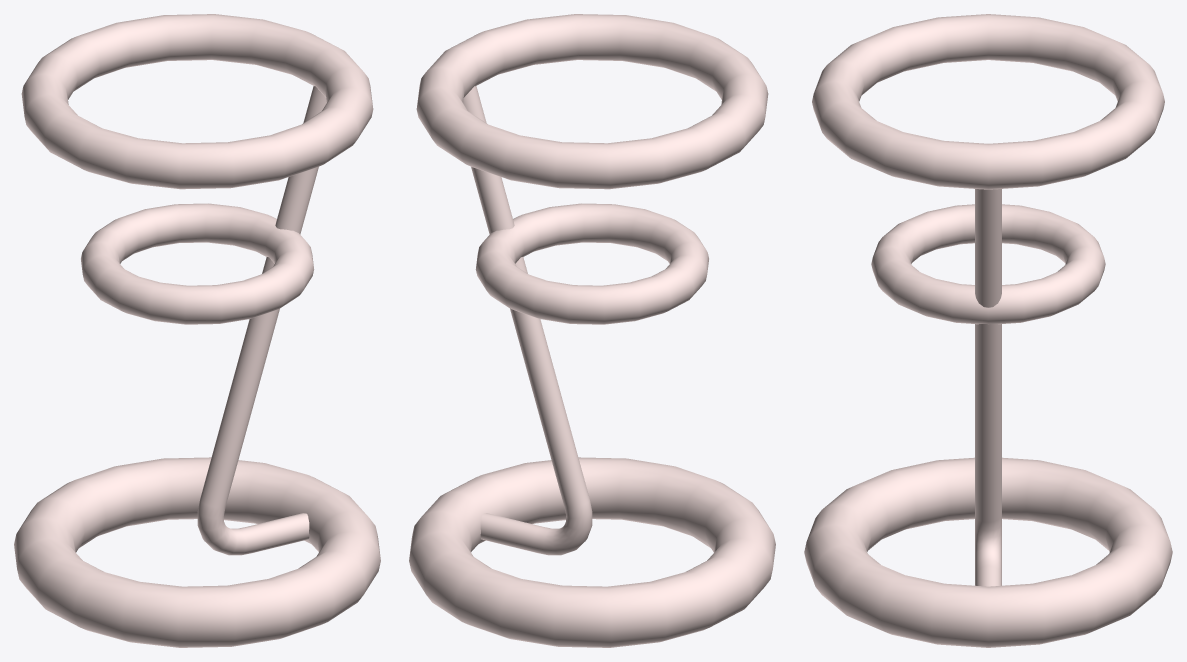
The model's file is City_19_Stand_Ice_Cream_1.glb.
3 views of the same model, side by side, from view 1: azimuth 30°, elevation 25°; view 2: azimuth 150°, elevation 25°; view 3: azimuth 270°, elevation 25° (orthographic).
Visible parts, largest first — view 1: City_19_Stand_Ice_Cream_1; view 2: City_19_Stand_Ice_Cream_1; view 3: City_19_Stand_Ice_Cream_1.
Part boxes in pixels (left/top/right/bottom): City_19_Stand_Ice_Cream_1: left=14, top=14, right=380, bottom=647; City_19_Stand_Ice_Cream_1: left=409, top=14, right=775, bottom=647; City_19_Stand_Ice_Cream_1: left=804, top=14, right=1172, bottom=647.
Bounding box in the file's own units: 0.1772 × 0.2649 × 0.1772.
Materials: 1 (1 with a texture image).
